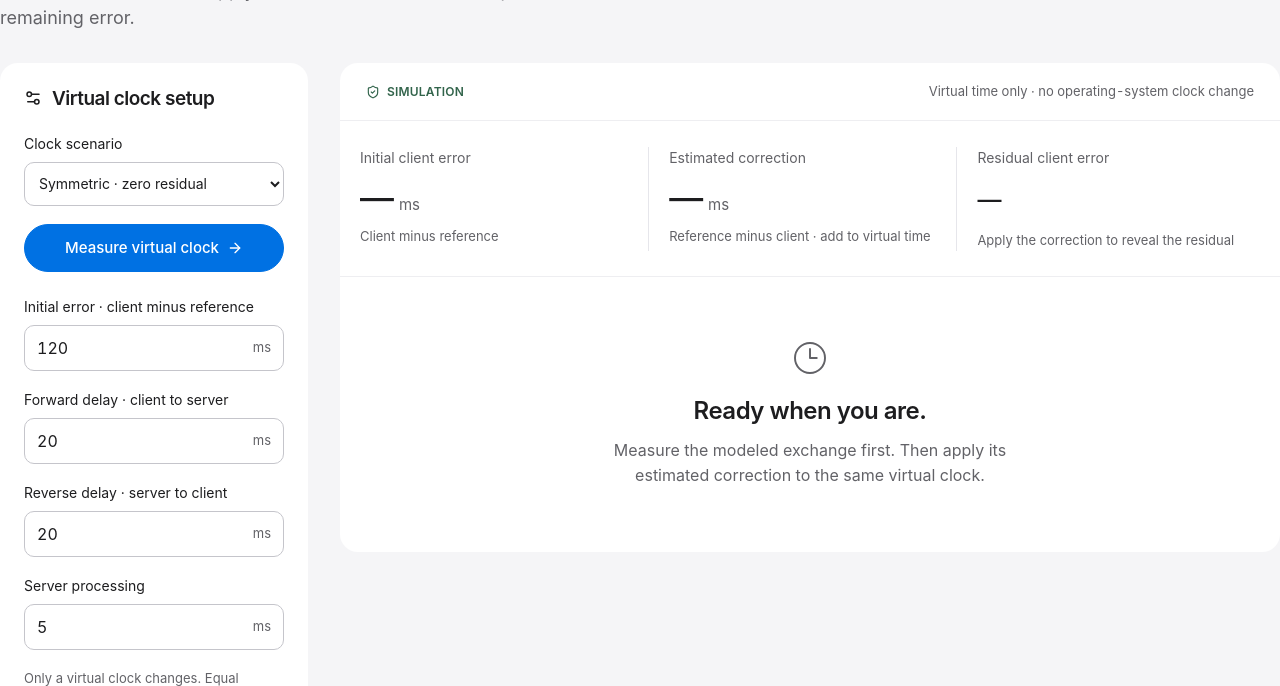
preserves half-ns readings and the common reference instant
Click the button "Measure virtual clock".
click(154, 248)  # box [24,224,284,272]
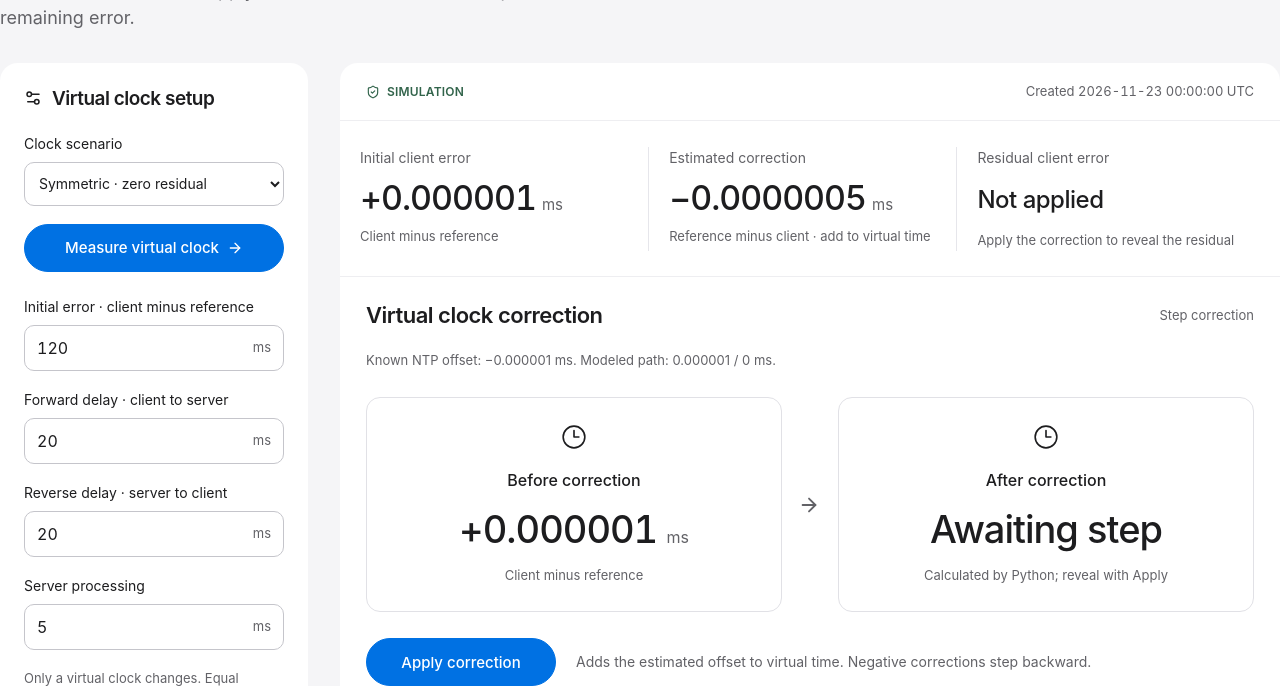
Click the button "Apply correction".
click(461, 662)  # box [366,638,556,685]
(page scrolled)
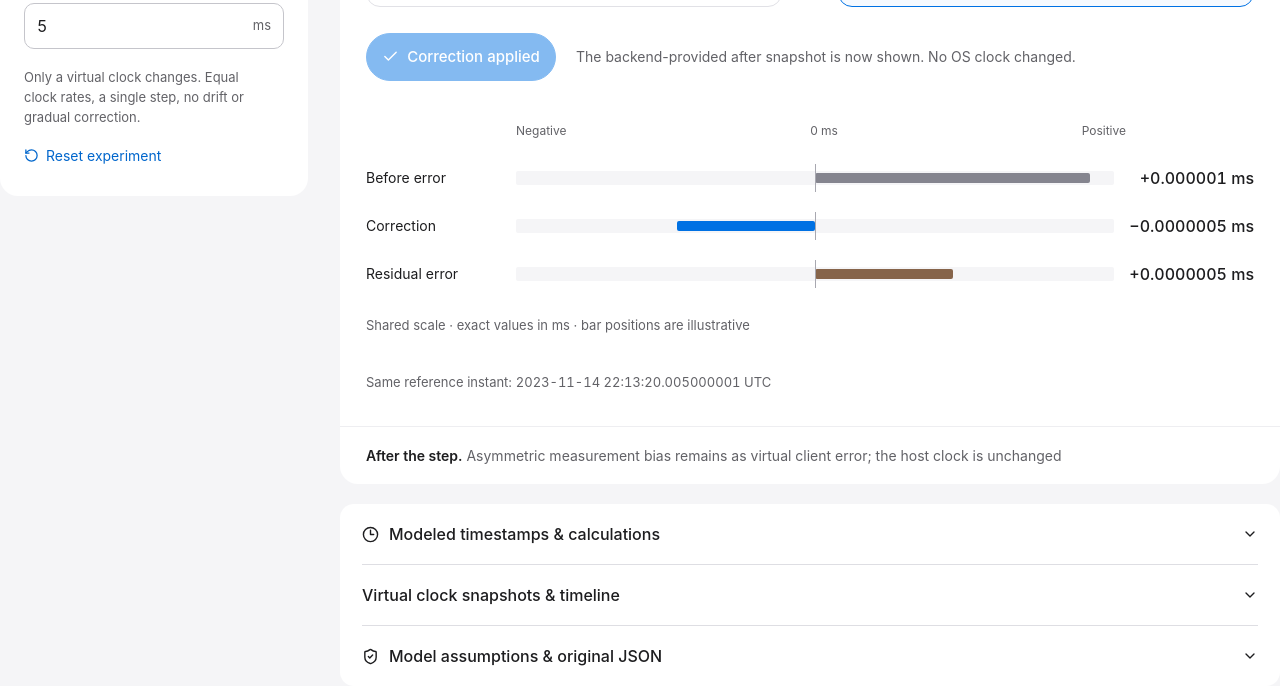
Click the heading "Virtual clock snapshots & timeline".
click(491, 595)  # box [362,585,1258,605]
(page scrolled)
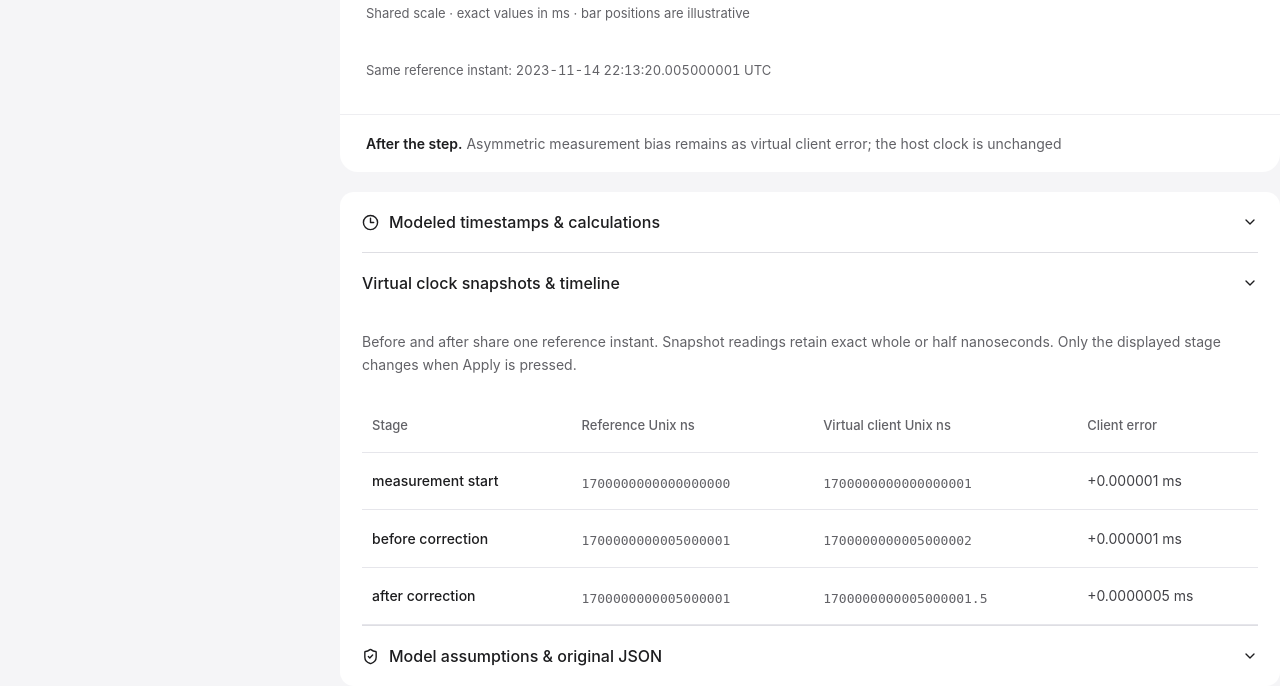
Check: the table named "Backend virtual clock timeline" shows ".5", box [362,400,1258,625]
